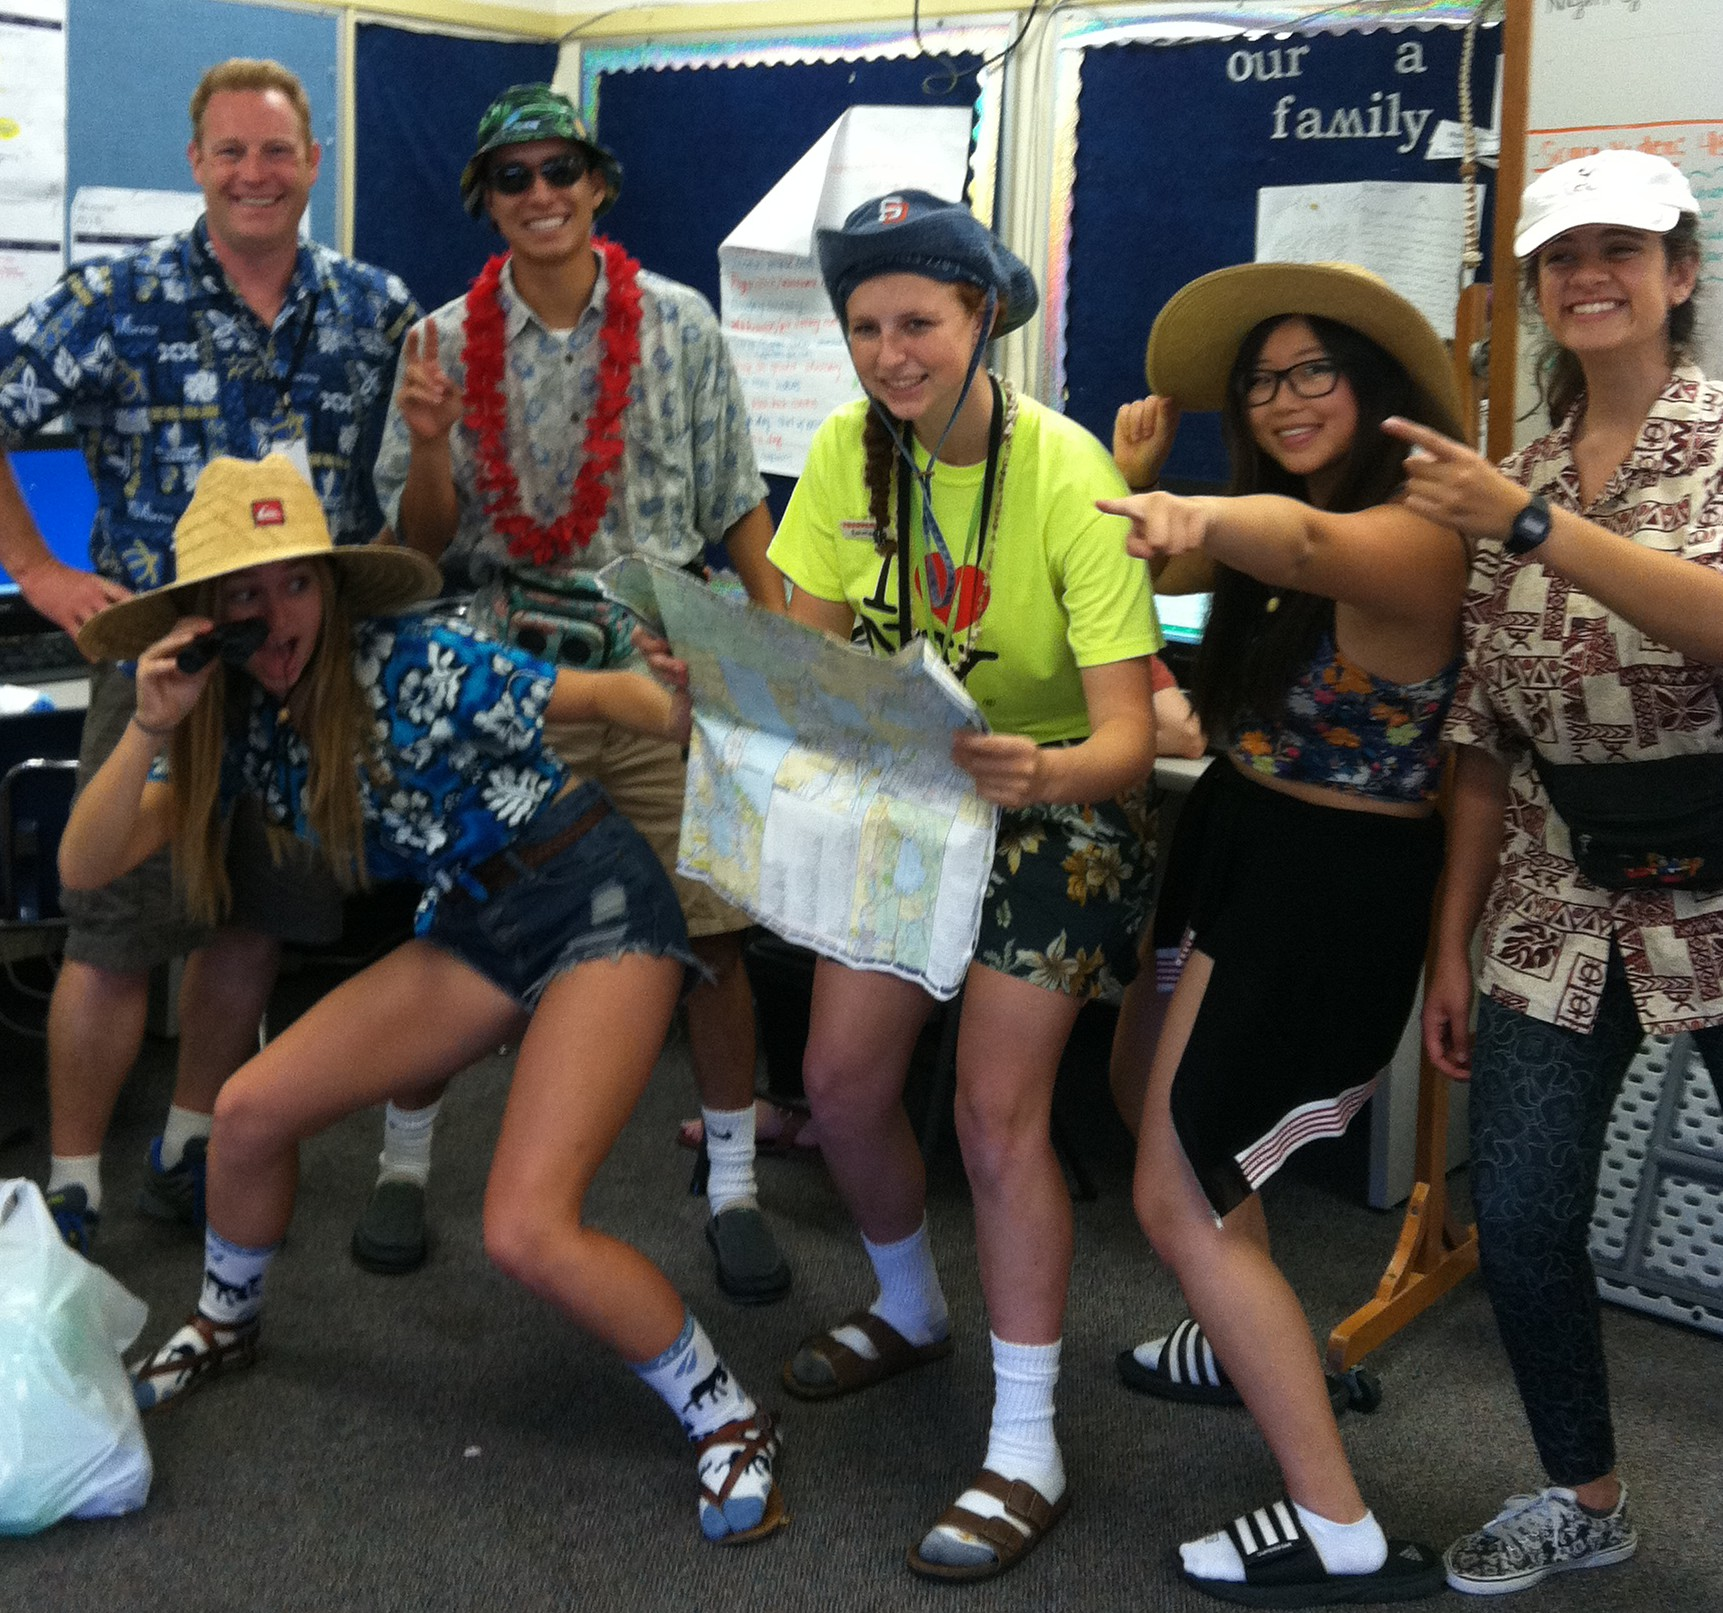Person: (59, 457, 791, 1552), (770, 191, 1149, 1585), (1098, 263, 1454, 1608), (1451, 147, 1723, 1589), (379, 80, 779, 549), (1, 57, 407, 447)
